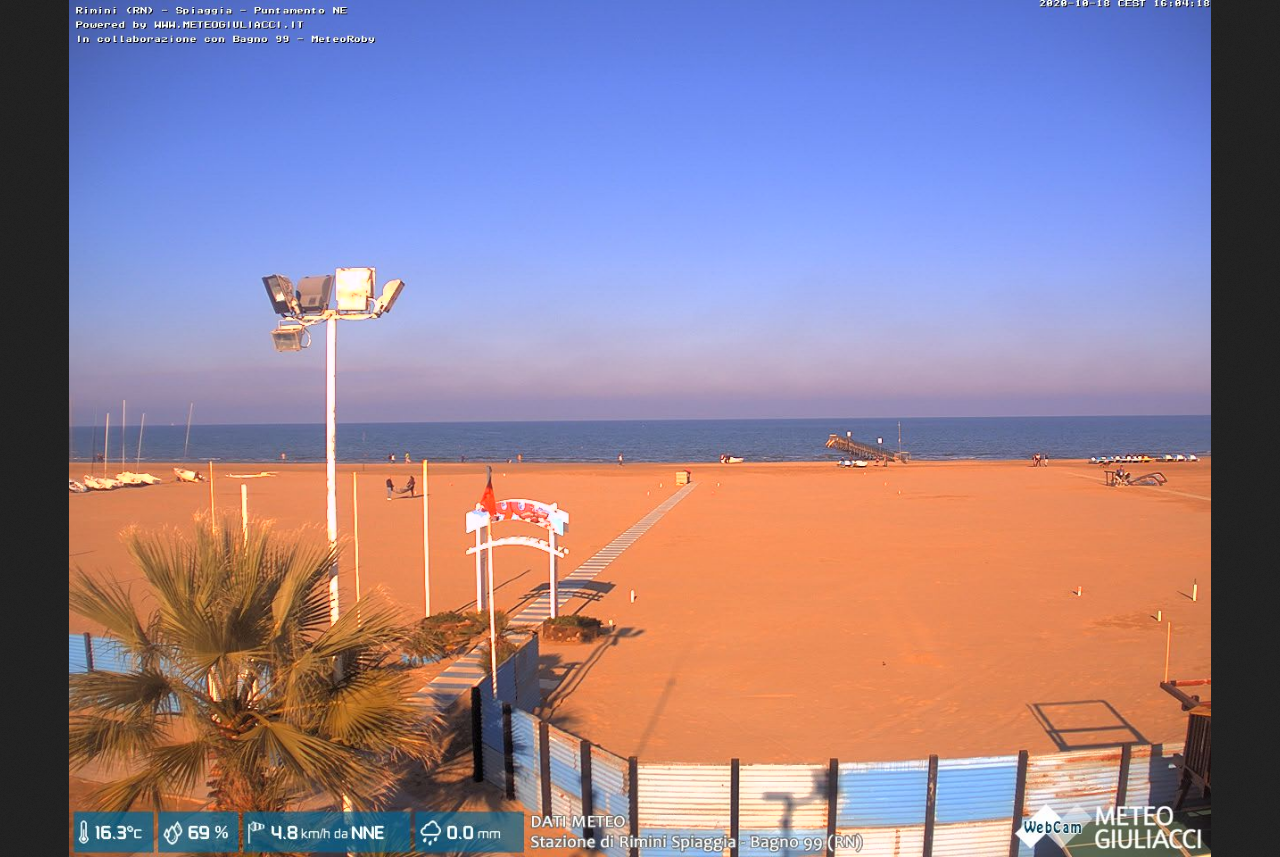yes: (478, 476, 499, 519)
